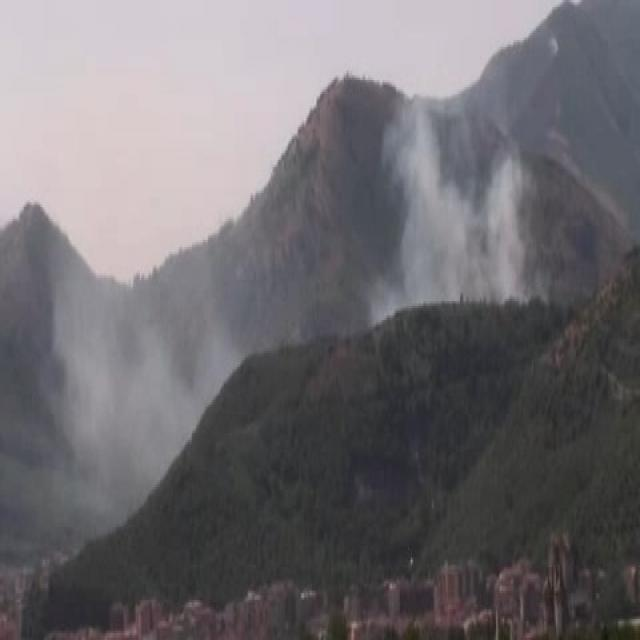smoke: (55, 258, 208, 449), (378, 119, 526, 303)
